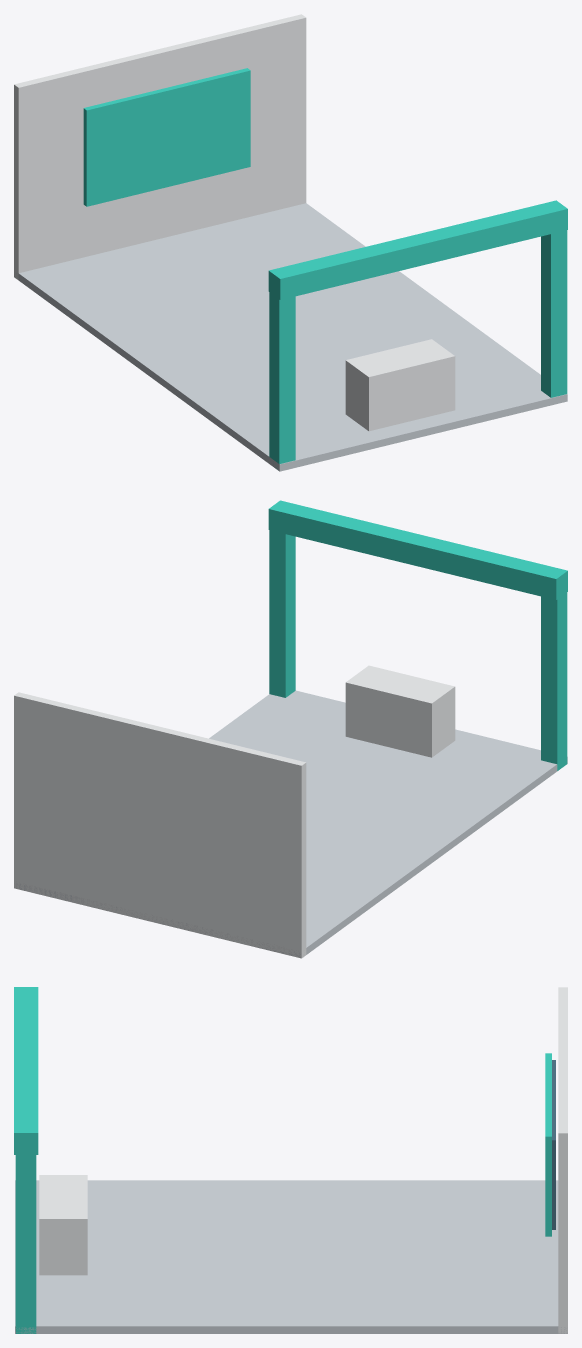
3 renders of one model, top to bottom at view 1: azimuth 30°, elevation 25°; view 2: azimuth 150°, elevation 25°; view 3: azimuth 270°, elevation 25°, orthographic. The views are drawn at different scales.
Parts seen in each view (by area): view 1: Exhibition Booth Concept; view 2: Exhibition Booth Concept; view 3: Exhibition Booth Concept.
Part boxes in pixels (left/top/right/bottom): Exhibition Booth Concept: left=14, top=14, right=567, bottom=471; Exhibition Booth Concept: left=14, top=500, right=567, bottom=958; Exhibition Booth Concept: left=14, top=987, right=567, bottom=1333.
Bounding box in the file's own units: 5 × 3.2 × 8.01.
